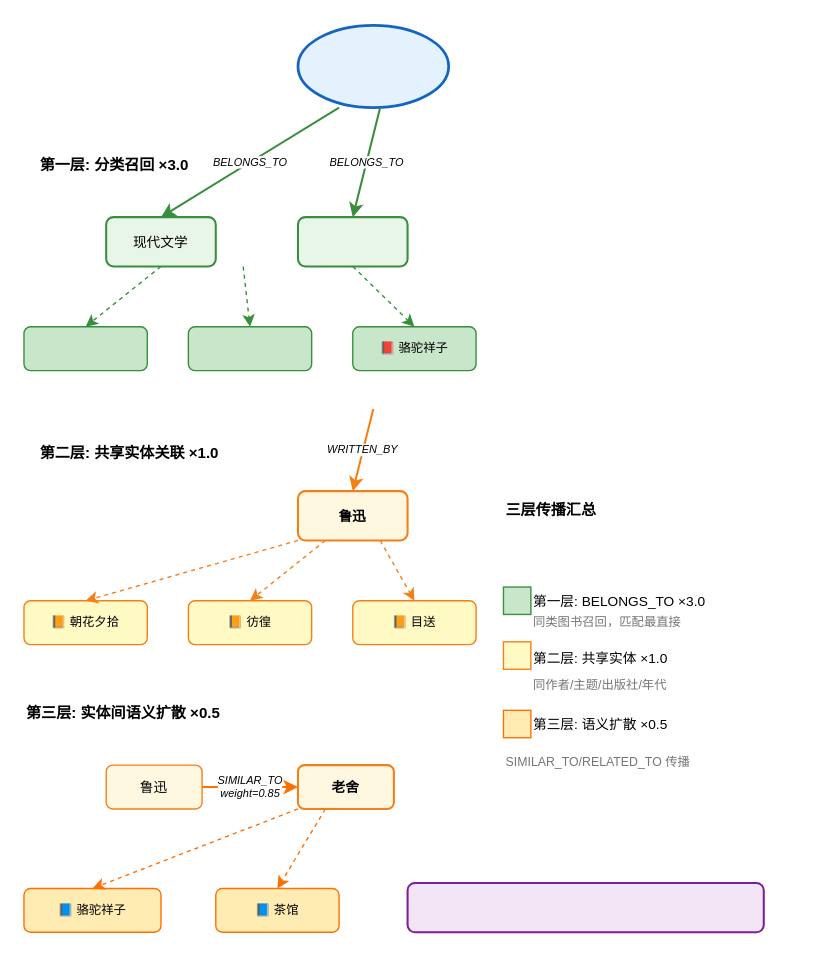
Some shapes in this 829 by 956 pixel diagram are drawn without their labels. Each missing label, with the centre of its shape:
"小说" belongs at (x=352, y=241).
"最终得分 = 3.0×S₁ + 1.0×S₂ + 0.5×S₃" belongs at (x=585, y=907).
"📕 围城" belongs at (x=249, y=348).
"📕 彷徨" belongs at (x=85, y=348).
"📗 呐喊 （用户喜欢）" belongs at (x=372, y=65).
